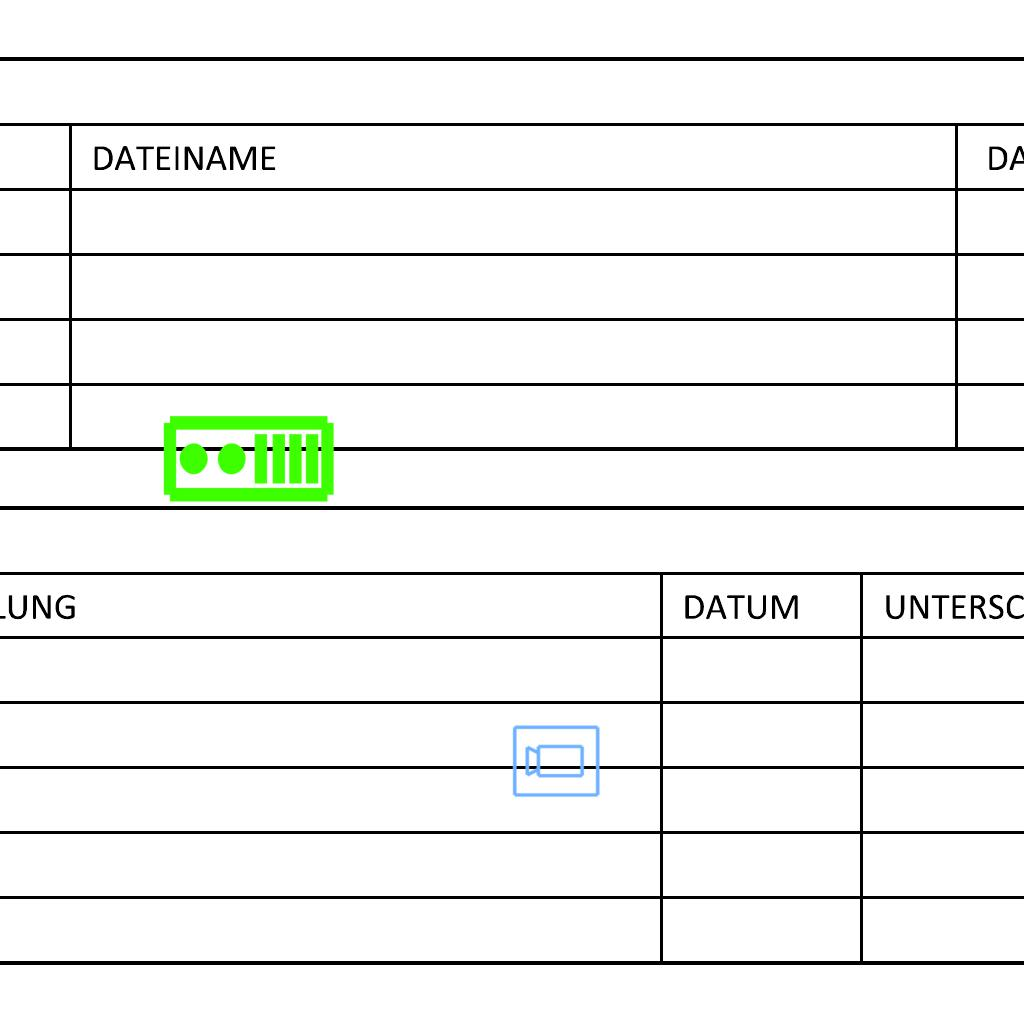Gegensprechanlage_mit_Video: (160, 413, 336, 508)
KFO_Kamera_mit_Festobjektiv: (511, 722, 602, 799)
